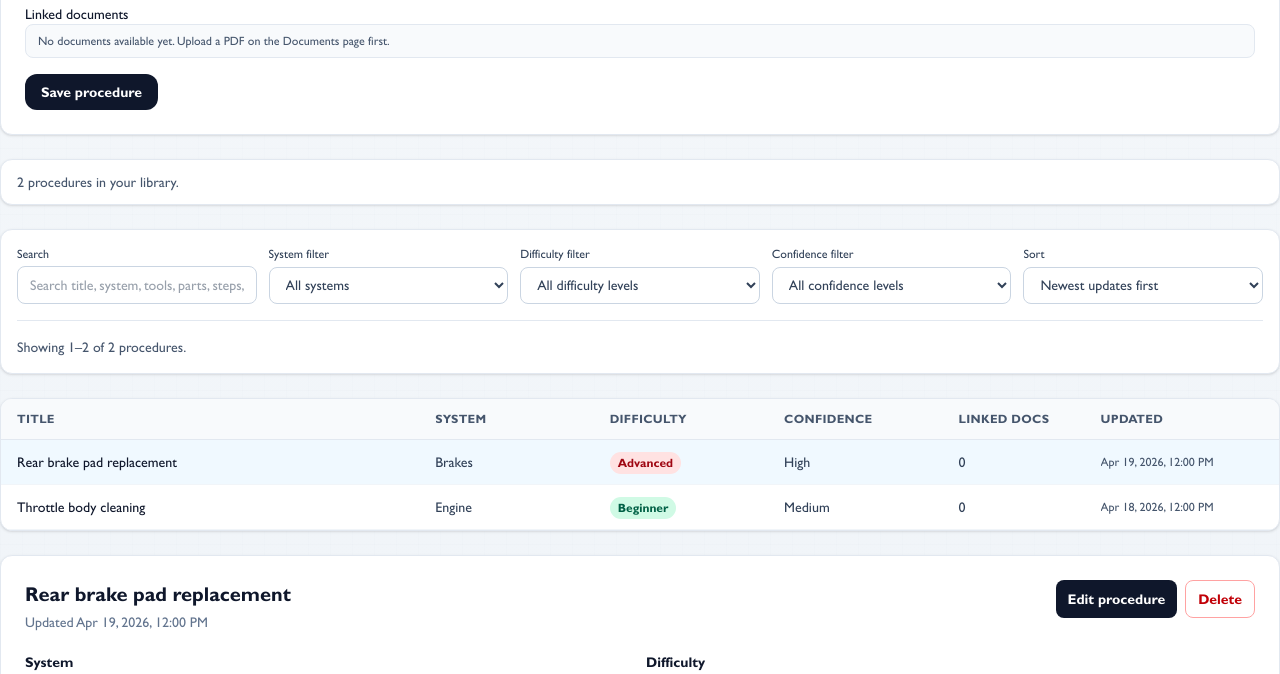
it: ProceduresPage supports search, filters, and filtered count in the list area
(page scrolled)
Type "brake" into the field with placeholder "Search title, system, tools, parts, steps, or notes" at [137, 285], box top-left (17, 266), bottom-right (257, 304)
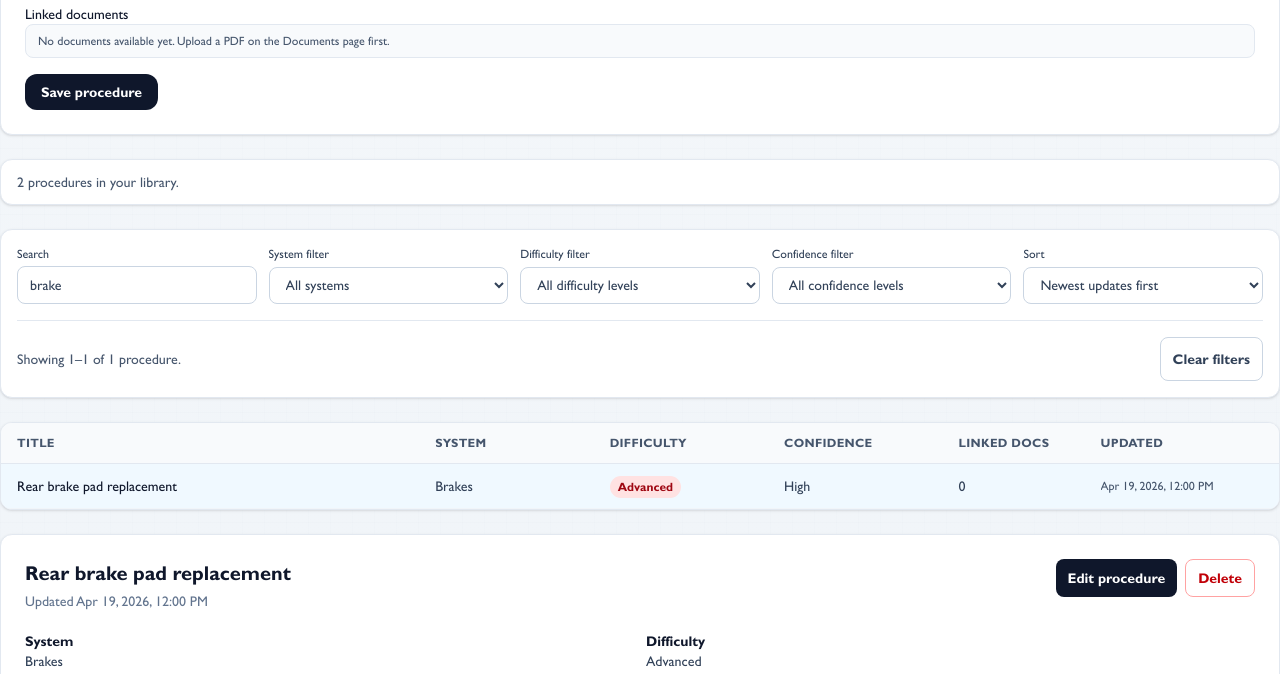
Expected: the text "Rear brake pad replacement" is shown, top-left (17, 478), bottom-right (177, 494)
Now no buttons "Throttle body cleaning" are shown
Select "Beginner" in the dropdown labelled "Difficulty filter" at [640, 285], box top-left (520, 267), bottom-right (760, 304)
(page scrolled)
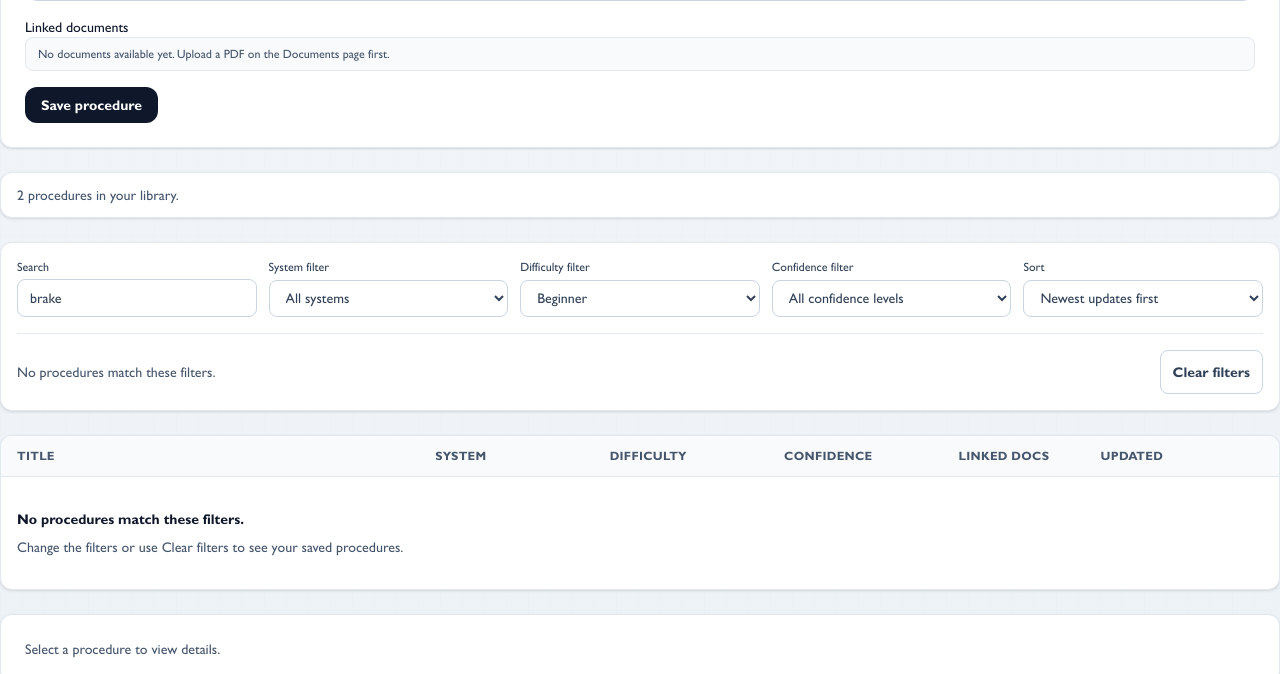
Now the text "Change the filters or use Clear filters to see your saved procedures." is shown, box top-left (17, 539), bottom-right (403, 555)
Click the button "Clear filters" at [1211, 372], box top-left (1160, 350), bottom-right (1263, 394)
(page scrolled)
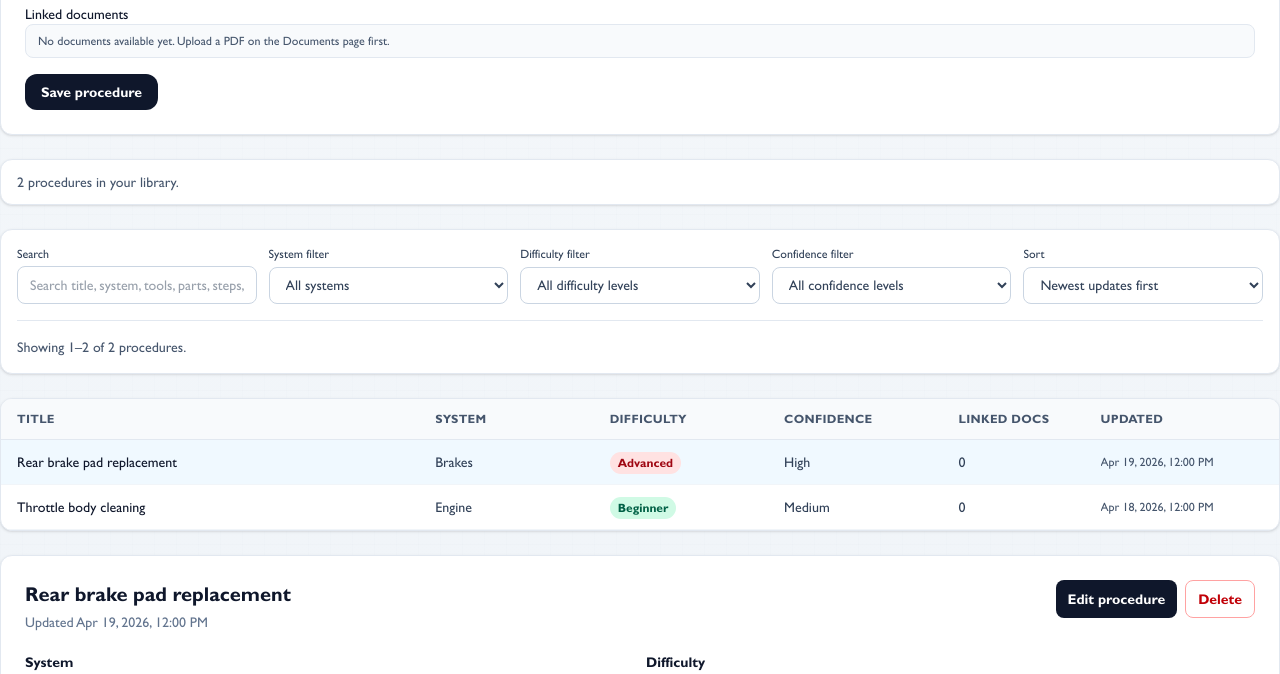
Now the text "Throttle body cleaning" is shown, box top-left (17, 499), bottom-right (145, 515)
